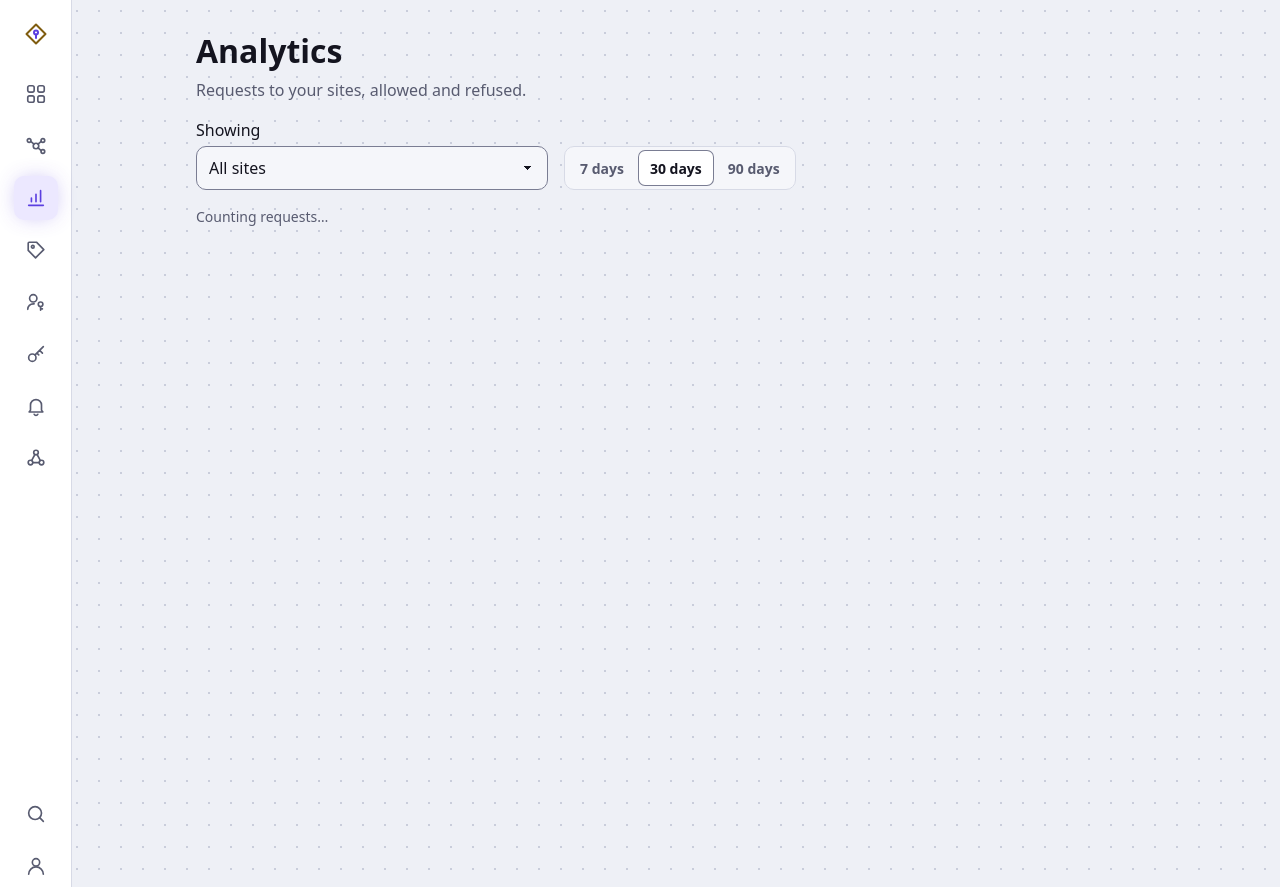
range › keeps the newest range when an earlier answer arrives later
Expected: the heading "Analytics" is shown, [196,29,342,72]
What coordinates should you click on to do the following:
click the radio button labelled "7 days"
I would click on:
 (602, 168)
Its box is [580,159,624,178].
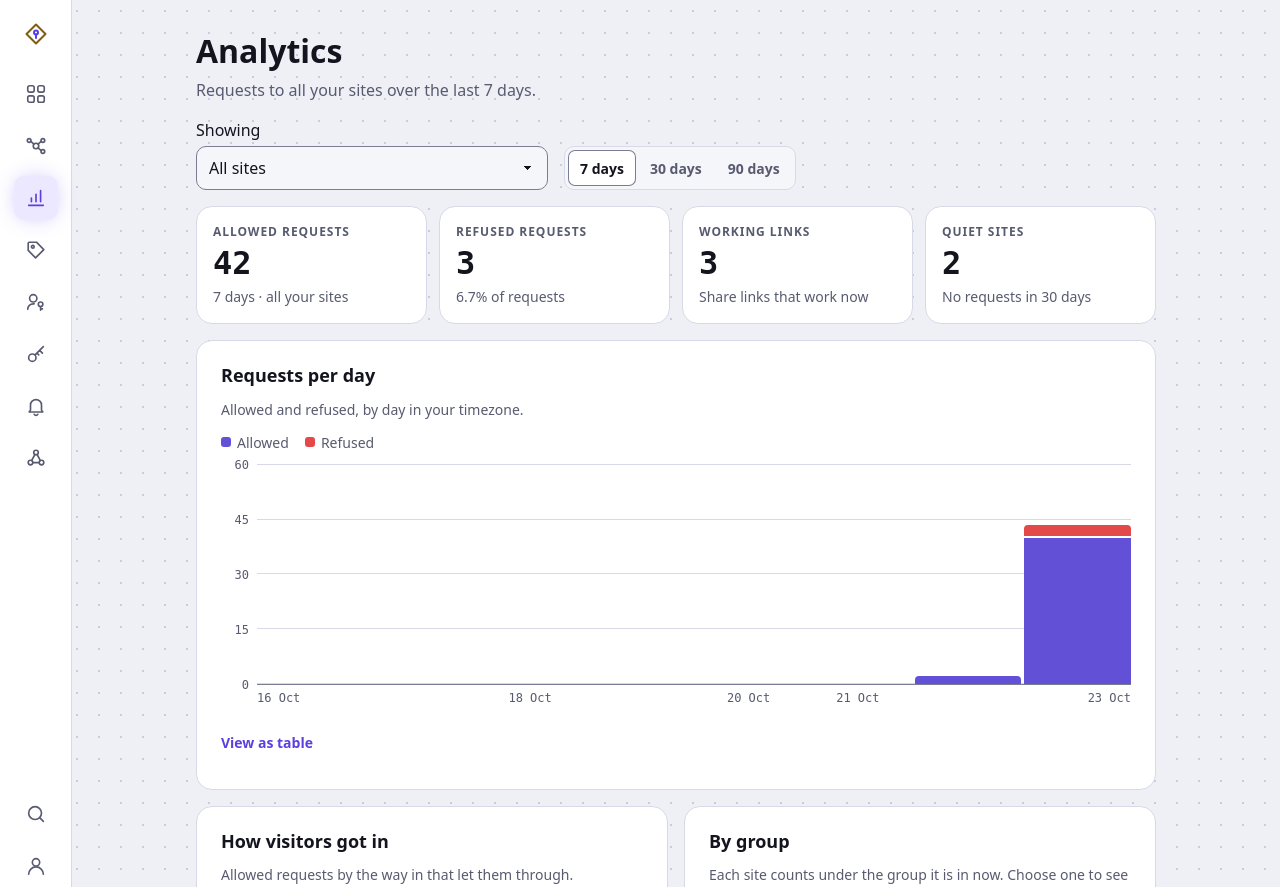
Result: the text "Requests to all your sites over the last 7 days." is shown at [196,79,536,101]
Result: the text "7 days · all your sites" is shown at [213,287,348,306]
